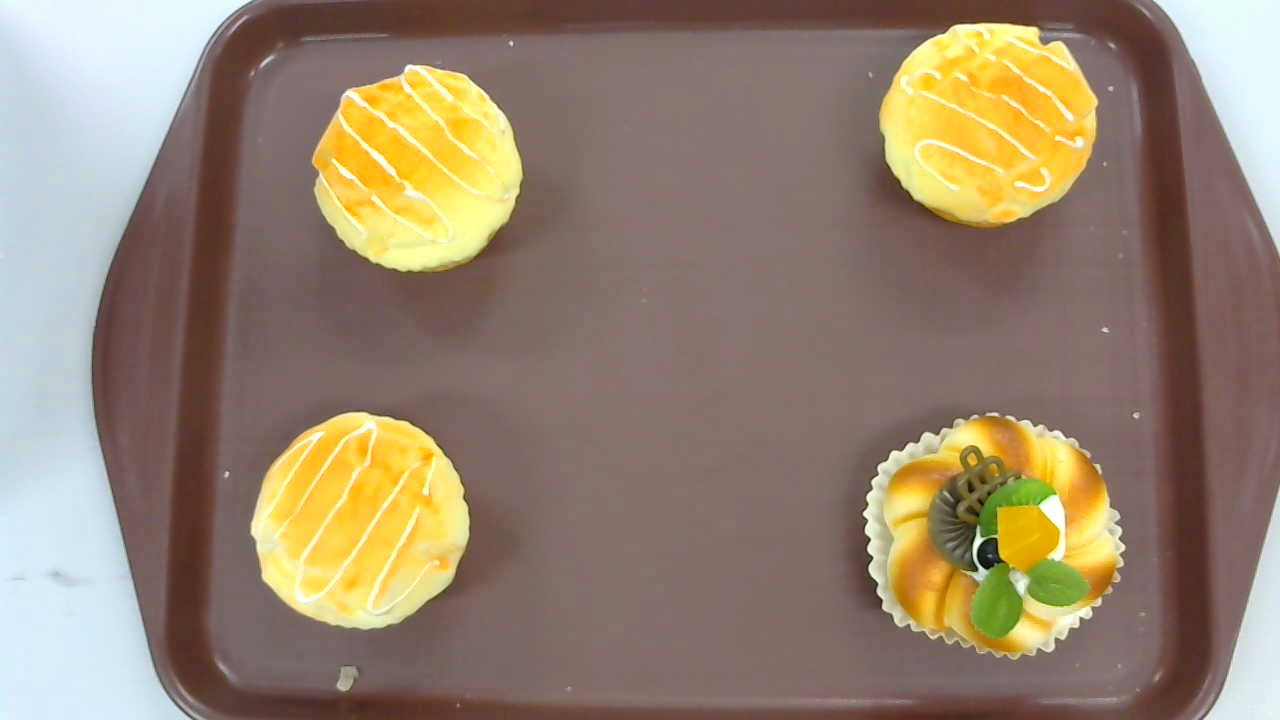cupcake: (249, 410, 470, 632), (878, 21, 1098, 230), (311, 63, 524, 273)
fruit tart: (862, 409, 1125, 660)
